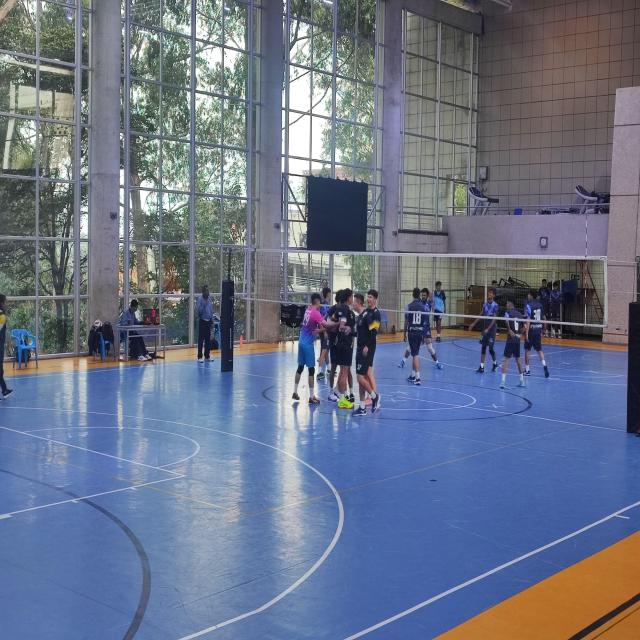volleyball: (94, 320, 102, 330)
